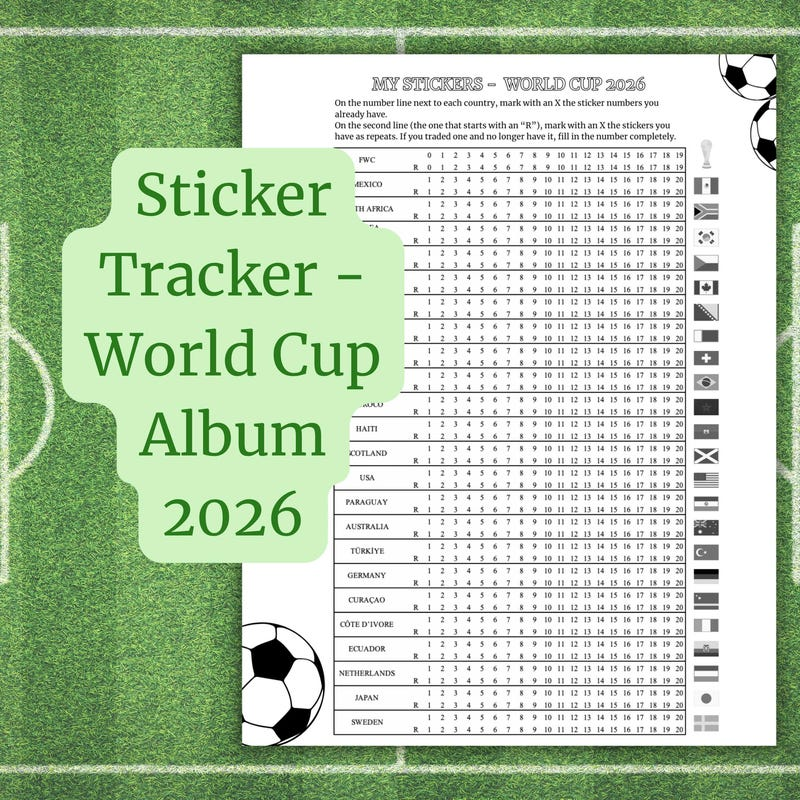Imprimante: (422, 375, 713, 475)
